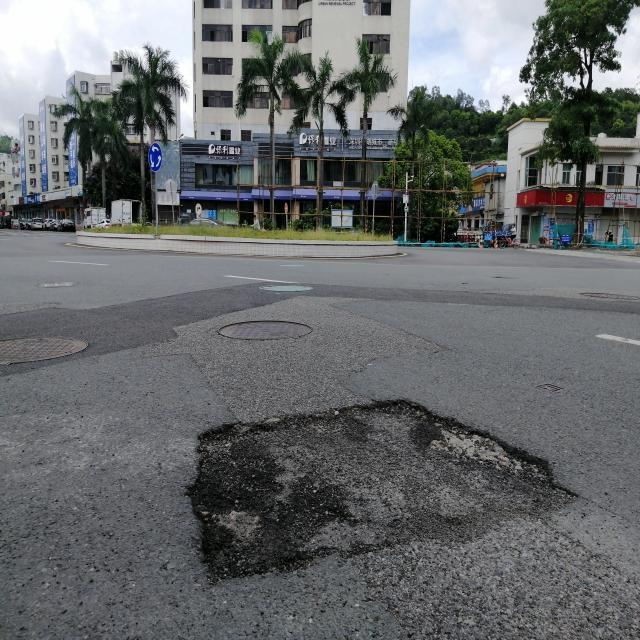Buraco: (179, 394, 588, 591)
